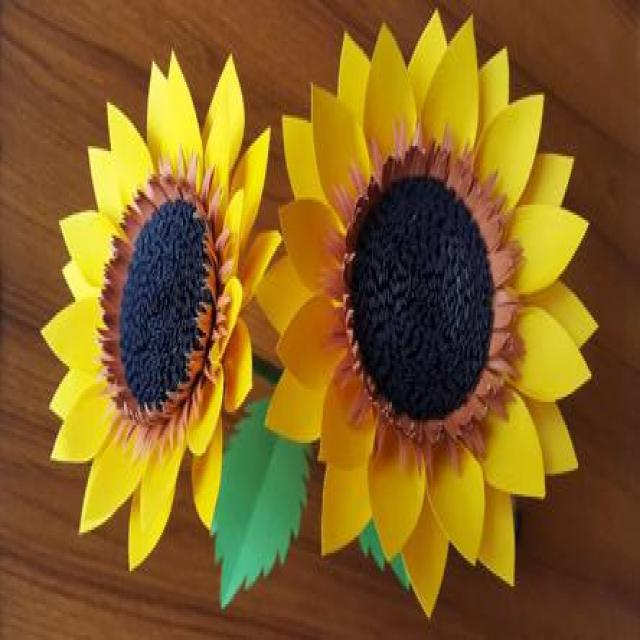sunflower: (248, 6, 600, 624), (32, 38, 280, 576)
